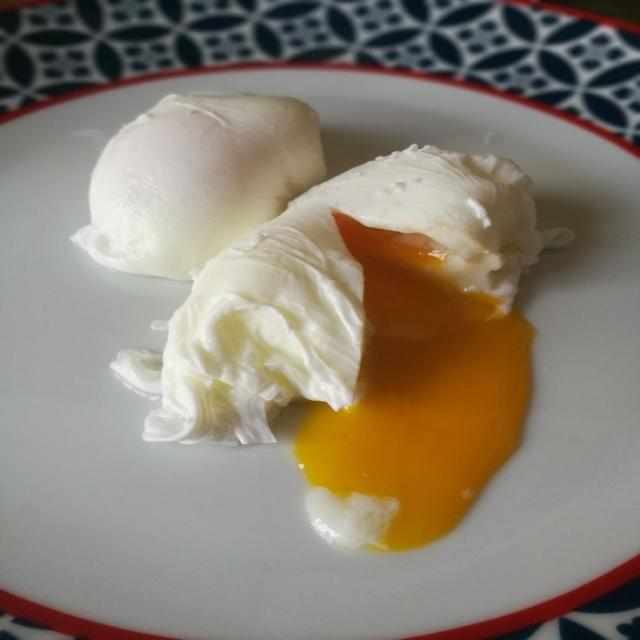egg boiled: (146, 147, 555, 548), (296, 215, 532, 549), (73, 94, 326, 279)
